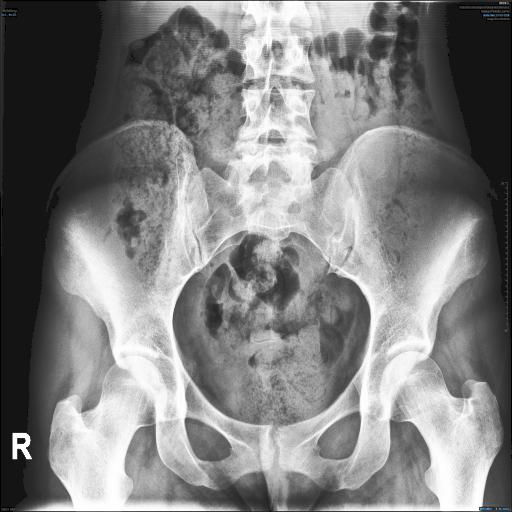normal: (380, 350, 504, 512), (47, 356, 167, 511)
